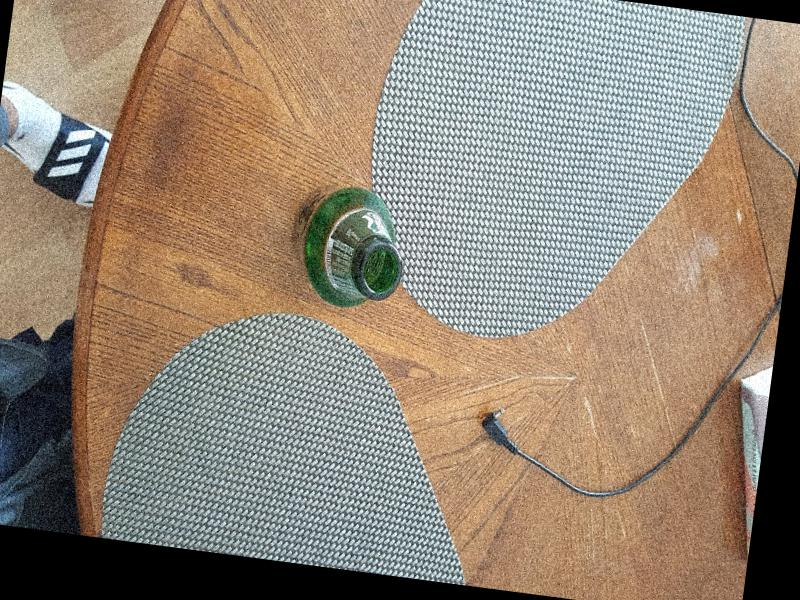Beer: (285, 180, 411, 315)
